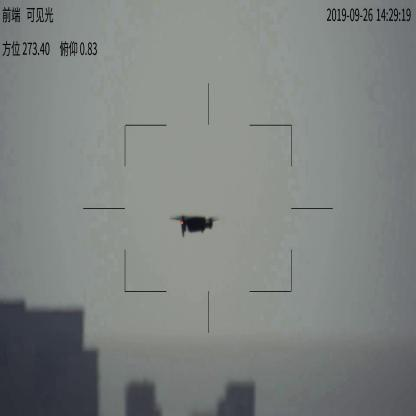uav: (166, 212, 224, 238)
